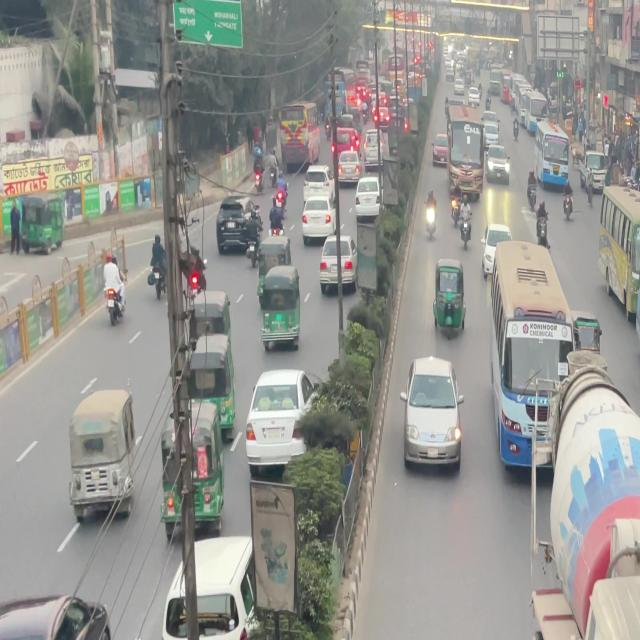bus: (489, 244, 580, 478), (161, 541, 254, 640), (245, 373, 315, 477), (595, 185, 640, 318), (3, 194, 68, 255)
car: (405, 360, 464, 470), (0, 591, 114, 640), (219, 199, 266, 261), (319, 237, 359, 288)
rickshaw: (67, 384, 133, 523), (260, 263, 301, 355), (436, 263, 468, 338)
van: (550, 383, 640, 633), (565, 575, 640, 640)
